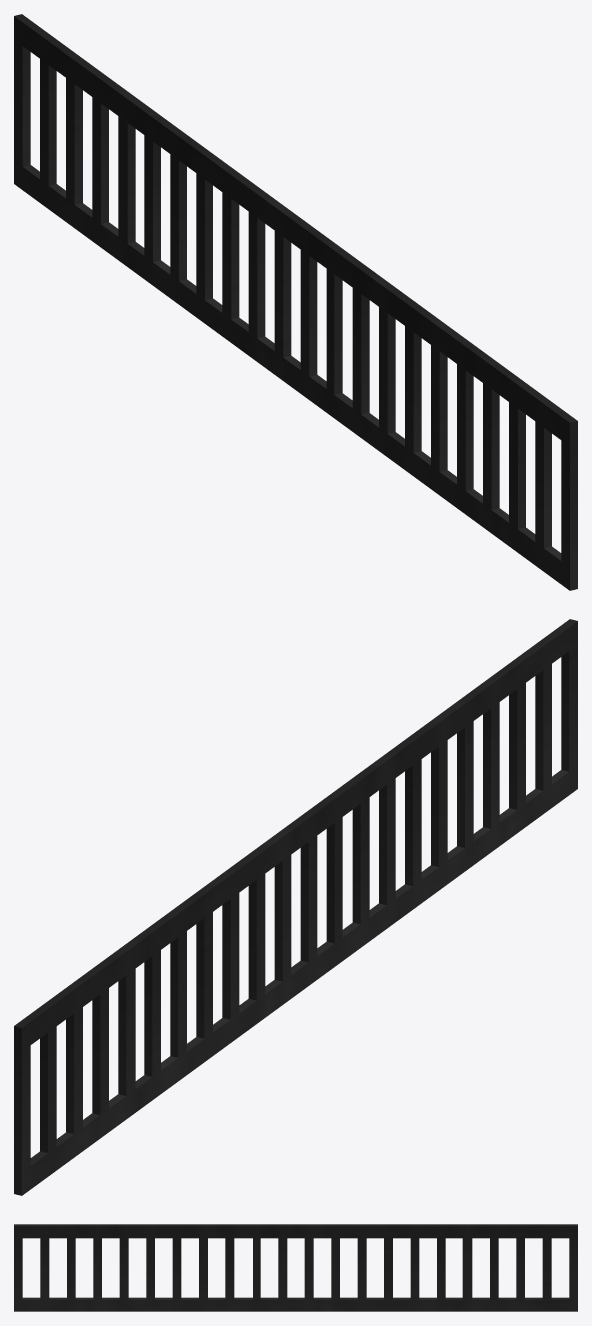
The model's file is Reja.obj.
3 renders of one model, top to bottom at view 1: azimuth 30°, elevation 25°; view 2: azimuth 150°, elevation 25°; view 3: azimuth 270°, elevation 25°, orthographic. The views are drawn at different scales.
Parts seen in each view (by area): view 1: Cube; view 2: Cube; view 3: Cube.
Boxes of the visible parts, x1,y1,x2,y2 form: Cube: (14, 14, 577, 590); Cube: (14, 619, 577, 1195); Cube: (14, 1224, 577, 1311).
Size of the model in its own units: 0.1 by 2 by 12.
